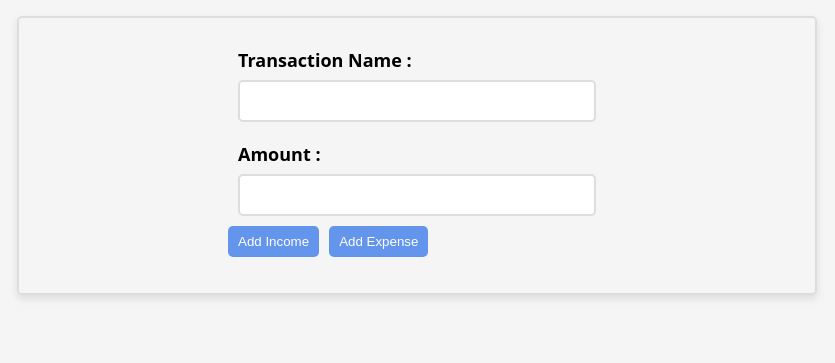
Test: shows validation errors and does not submit empty fields
This screenshot has width=835, height=363.
Click the button "Add Income" at [274, 242], box [228, 226, 319, 257]
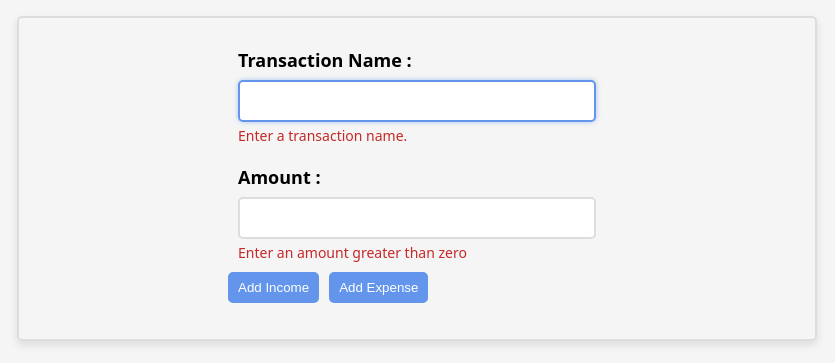
Check: the text "Enter a transaction name." is shown, box [238, 126, 407, 145]
Check: the text "Enter an amount greater than zero" is shown, box [238, 243, 467, 262]
